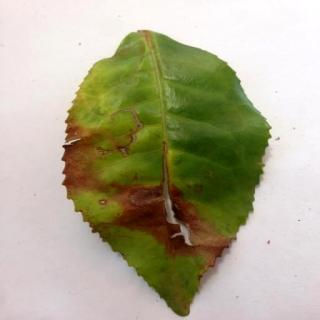Algal Leaf: (63, 31, 271, 320)
